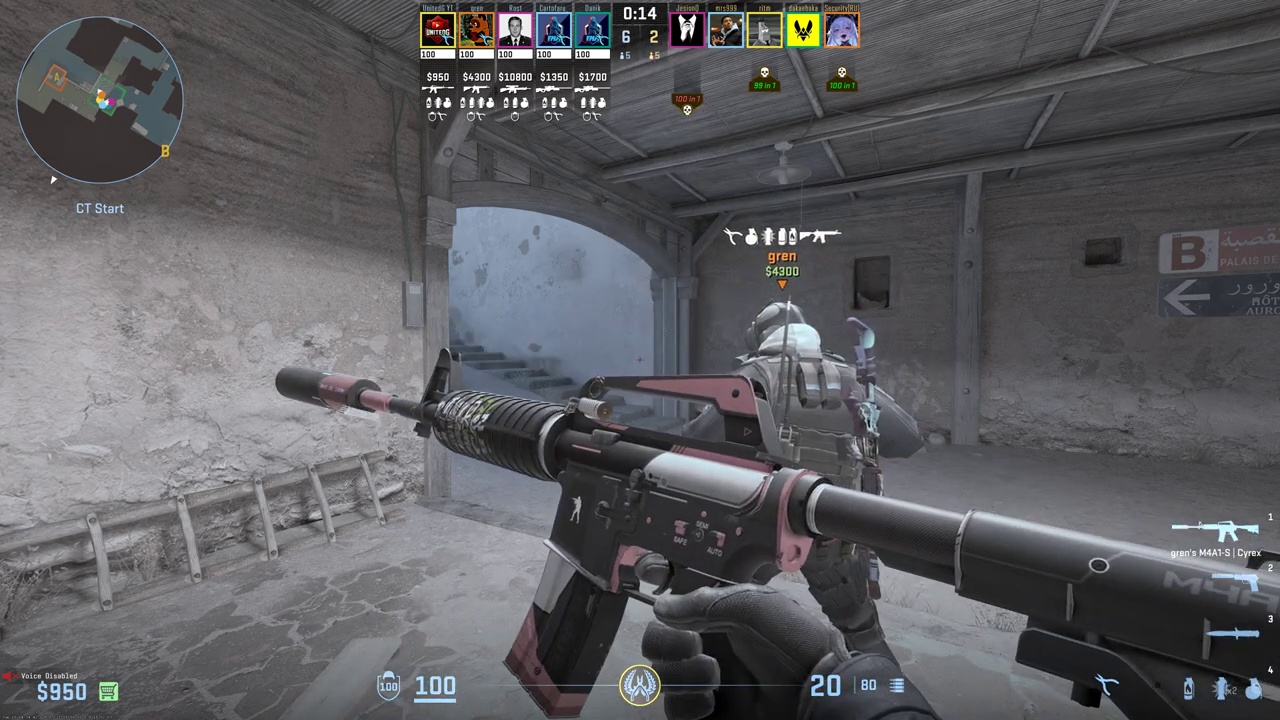CT: (728, 302, 886, 598)
